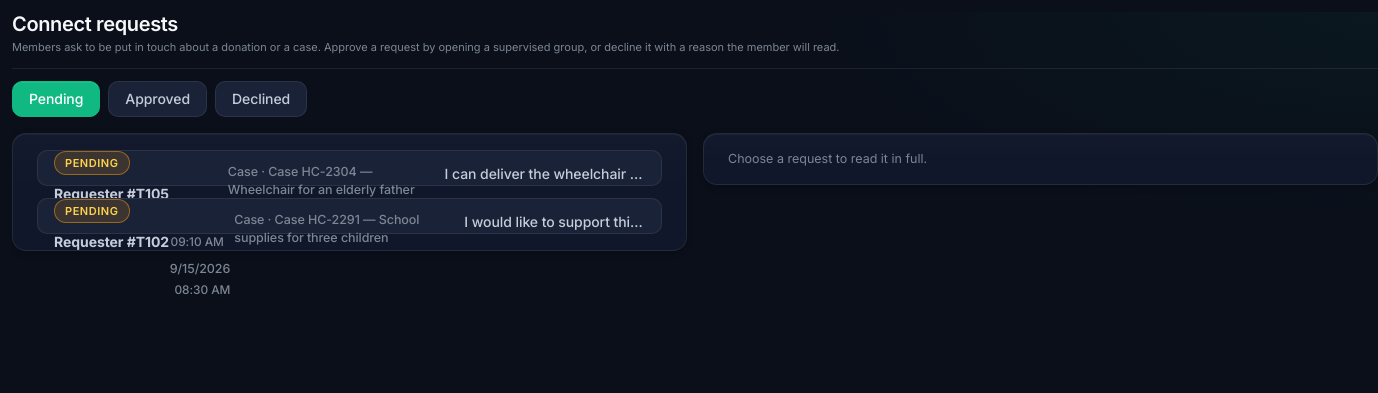
Scenario: ConnectRequestsPage › offers Approve and Decline on a pending request to staff with messages:edit
The image size is (1378, 393).
Click the button named "I can deliver the wheelchair".
click(350, 168)  # box [37,150,662,186]
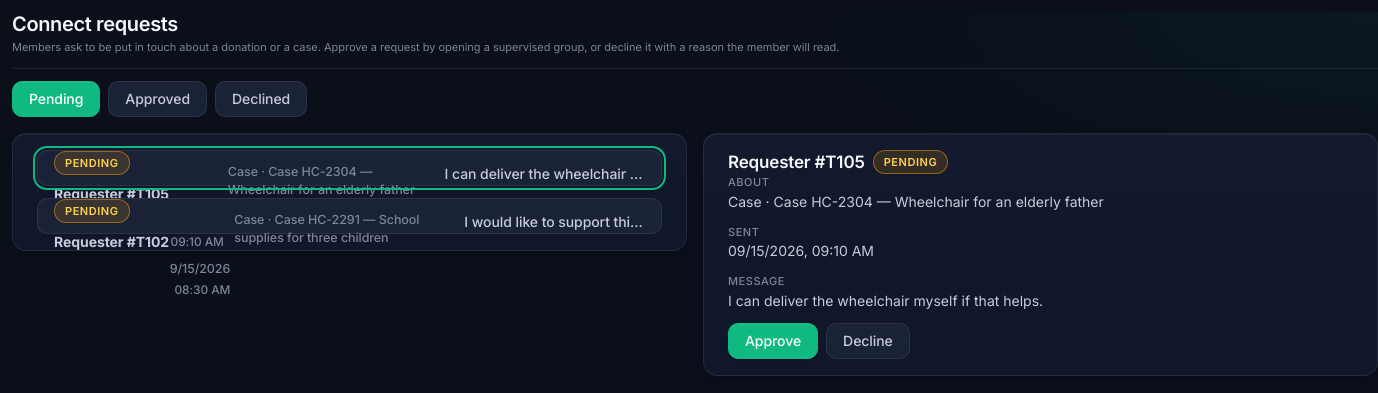
Now the button "Approve" is shown, box [728,322,818,358]
Now the button "Decline" is shown, box [826,322,910,358]
